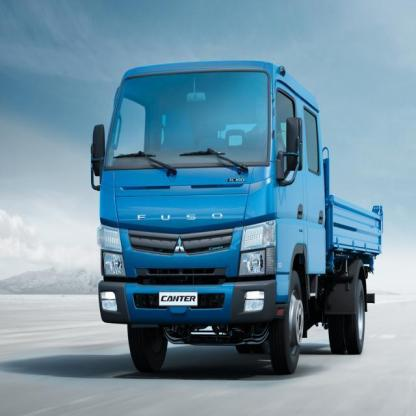truck: (91, 60, 385, 374)
